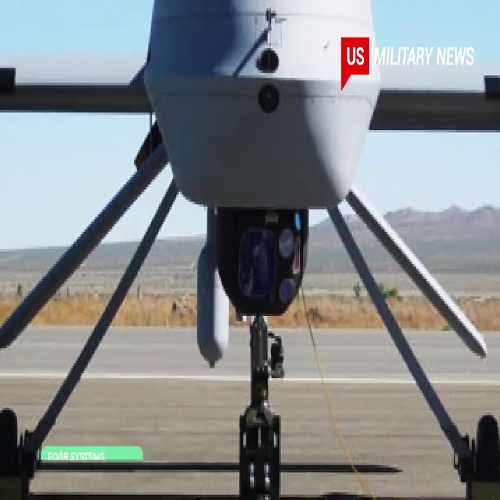uav: (1, 1, 497, 496)
